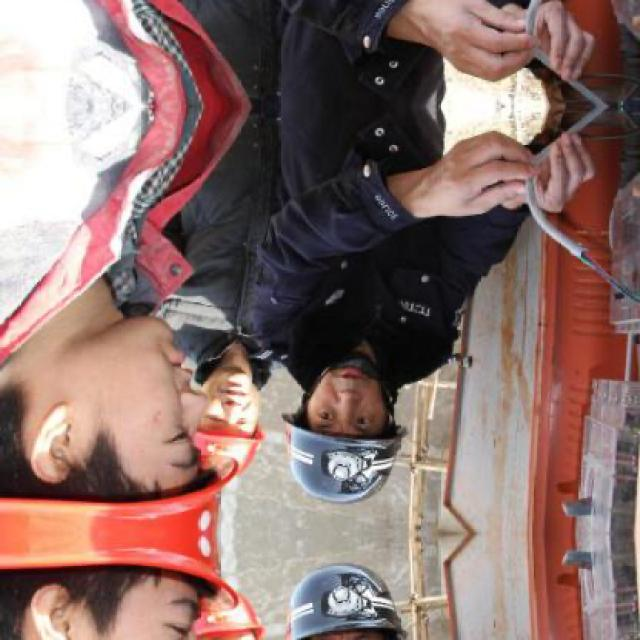con casco: (1, 316, 218, 537), (270, 353, 427, 503), (180, 372, 300, 484)
